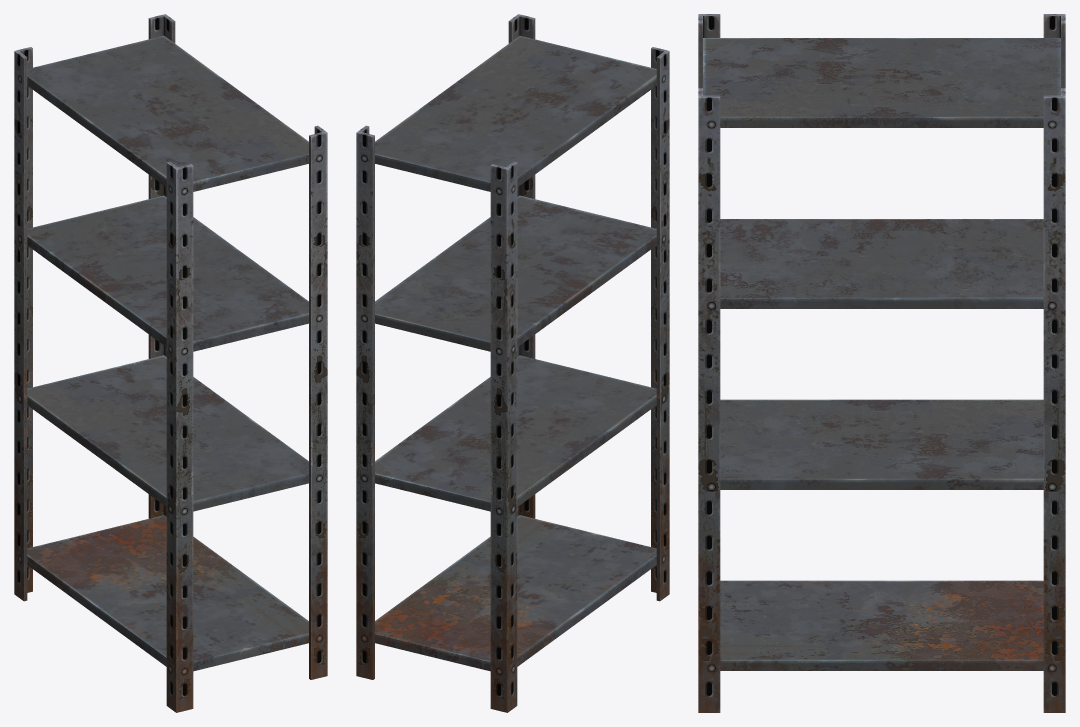
The model's file is metalShelf02_A.fbx.
3 renders of one model, left to right at view 1: azimuth 30°, elevation 25°; view 2: azimuth 150°, elevation 25°; view 3: azimuth 270°, elevation 25°, orthographic. The views are drawn at different scales.
Visible parts, largest first — view 1: metalShelf02_A; view 2: metalShelf02_A; view 3: metalShelf02_A.
Boxes of the visible parts, x1,y1,x2,y2 form: metalShelf02_A: [14, 14, 327, 712]; metalShelf02_A: [356, 14, 669, 712]; metalShelf02_A: [698, 14, 1065, 712].
Size of the model in its own units: 52.5 by 180 by 97.4.
